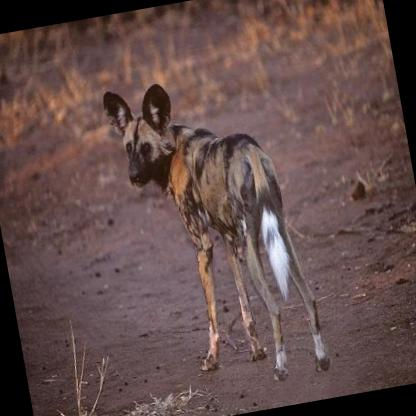African_hunting_dog: (96, 57, 330, 404)
